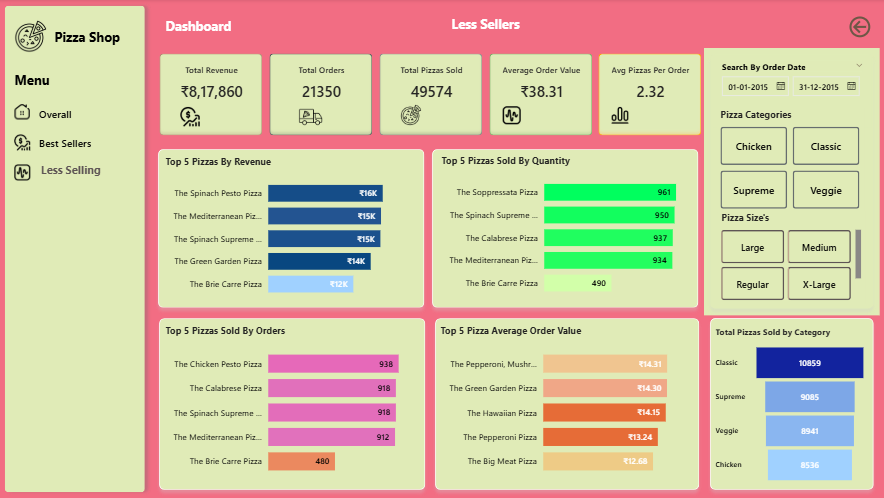

What the dashboard file says about the page in this screenshot:
{"tool":"powerbi","page":{"name":"Less Selling","canvas":[1280,720],"ordinal":2},"visuals":[{"type":"shape","box":[0,0,221,720],"z":0},{"type":"textbox","box":[76,37,122,37],"z":1000},{"type":"image","box":[19,23,57,60],"z":2000},{"type":"textbox","box":[236.2,21.2,150,37.5],"z":3000},{"type":"cardVisual","fields":{"Data":["pizza_sales.Total Revenue"]},"box":[227.4,73.6,158.2,128.4],"z":4000,"group":"g1"},{"type":"shape","box":[223,450,401,265],"z":4000},{"type":"cardVisual","fields":{"Data":["pizza_sales.Total Orders"]},"box":[385.6,73.6,158.2,128.4],"z":5000,"group":"g1"},{"type":"shape","box":[620,450,398,265],"z":5000},{"type":"group","id":"g1","title":"Group 1","box":[227.4,73.6,791.1,128.4],"z":6000},{"type":"cardVisual","fields":{"Data":["pizza_sales.Avg Order Value"]},"box":[702,73.6,158.2,128.4],"z":6000,"group":"g1"},{"type":"shape","box":[1016.4,70.9,252.7,384.5],"z":7000},{"type":"cardVisual","fields":{"Data":["pizza_sales.Total Pizzas Sold"]},"box":[543.6,73.6,158.2,128],"z":7000,"group":"g1"},{"type":"cardVisual","fields":{"Data":["pizza_sales.Avg Pizza Per Order"]},"box":[860.2,73.6,158.2,128.4],"z":8000,"group":"g1"},{"type":"slicer","fields":{"Values":["pizza_sales.order_date"]},"box":[1029.2,83.3,228.3,100.8],"z":8000},{"type":"textbox","box":[19,100,150,38],"z":9000},{"type":"image","box":[19.2,146,32.4,33.6],"z":10000},{"type":"pageNavigator","box":[59.3,144,146,116],"z":11000},{"type":"shape","box":[1016,450,253,265],"z":12000},{"type":"advancedSlicerVisual","title":"Pizza Categories","fields":{"Values":["pizza_sales.pizza_category"]},"box":[1035.8,156.7,211.7,150],"z":13000},{"type":"advancedSlicerVisual","title":"Pizza Size''s","fields":{"Values":["pizza_sales.pizza_size"]},"box":[1037.5,305.8,211.7,134.2],"z":14000},{"type":"image","box":[14,190.7,40,32.7],"z":15000},{"type":"image","box":[11.3,232.7,47.3,32.7],"z":16000},{"type":"actionButton","box":[1221.2,20,47.5,40],"z":17000},{"type":"shape","box":[222,207,401,246],"z":18000},{"type":"shape","box":[617,207,401,246],"z":19000},{"type":"barChart","title":"Top 5 Pizzas By Revenue","fields":{"Category":["pizza_sales.pizza_name"],"Y":["pizza_sales.Total Revenue"]},"box":[236,224,372,217],"z":20000},{"type":"barChart","title":"Top 5 Pizzas Sold By Quantity ","fields":{"Category":["pizza_sales.pizza_name"],"Y":["pizza_sales.Total Pizzas Sold"]},"box":[633,223,372,217],"z":21000},{"type":"barChart","title":"Top 5 Pizzas Sold By Orders","fields":{"Category":["pizza_sales.pizza_name"],"Y":["pizza_sales.Total Orders"]},"box":[236,468,372,231],"z":22000},{"type":"barChart","title":"Top 5 Pizza Average Order Value","fields":{"Category":["pizza_sales.pizza_name"],"Y":["pizza_sales.Average Order Value"]},"box":[632,468,372,231],"z":23000},{"type":"textbox","box":[605,18,195,38],"z":24000},{"type":"funnel","title":"Total Pizzas Sold by Category","fields":{"Category":["pizza_sales.pizza_category"],"Y":["pizza_sales.Total Orders"]},"box":[1028,471,228,232],"z":25000}]}

Visuals, with their boxes on the page's 1280x720 design canvas (x1, y1, x2, y2). These are canvas units, not pixel positions in the 884x498 screenshot, which may show the page scaled, cropped or inside an application window:
shape: rect(0, 0, 221, 720)
textbox: rect(76, 37, 198, 74)
image: rect(19, 23, 76, 83)
textbox: rect(236, 21, 386, 59)
cardVisual - pizza_sales.Total Revenue: rect(227, 74, 386, 202)
shape: rect(223, 450, 624, 715)
cardVisual - pizza_sales.Total Orders: rect(386, 74, 544, 202)
shape: rect(620, 450, 1018, 715)
"Group 1" group: rect(227, 74, 1018, 202)
cardVisual - pizza_sales.Avg Order Value: rect(702, 74, 860, 202)
shape: rect(1016, 71, 1269, 455)
cardVisual - pizza_sales.Total Pizzas Sold: rect(544, 74, 702, 202)
cardVisual - pizza_sales.Avg Pizza Per Order: rect(860, 74, 1018, 202)
slicer - pizza_sales.order_date: rect(1029, 83, 1258, 184)
textbox: rect(19, 100, 169, 138)
image: rect(19, 146, 52, 180)
pageNavigator: rect(59, 144, 205, 260)
shape: rect(1016, 450, 1269, 715)
"Pizza Categories" advancedSlicerVisual: rect(1036, 157, 1248, 307)
"Pizza Size''s" advancedSlicerVisual: rect(1038, 306, 1249, 440)
image: rect(14, 191, 54, 223)
image: rect(11, 233, 59, 265)
actionButton: rect(1221, 20, 1269, 60)
shape: rect(222, 207, 623, 453)
shape: rect(617, 207, 1018, 453)
"Top 5 Pizzas By Revenue" barChart: rect(236, 224, 608, 441)
"Top 5 Pizzas Sold By Quantity " barChart: rect(633, 223, 1005, 440)
"Top 5 Pizzas Sold By Orders" barChart: rect(236, 468, 608, 699)
"Top 5 Pizza Average Order Value" barChart: rect(632, 468, 1004, 699)
textbox: rect(605, 18, 800, 56)
"Total Pizzas Sold by Category" funnel: rect(1028, 471, 1256, 703)
